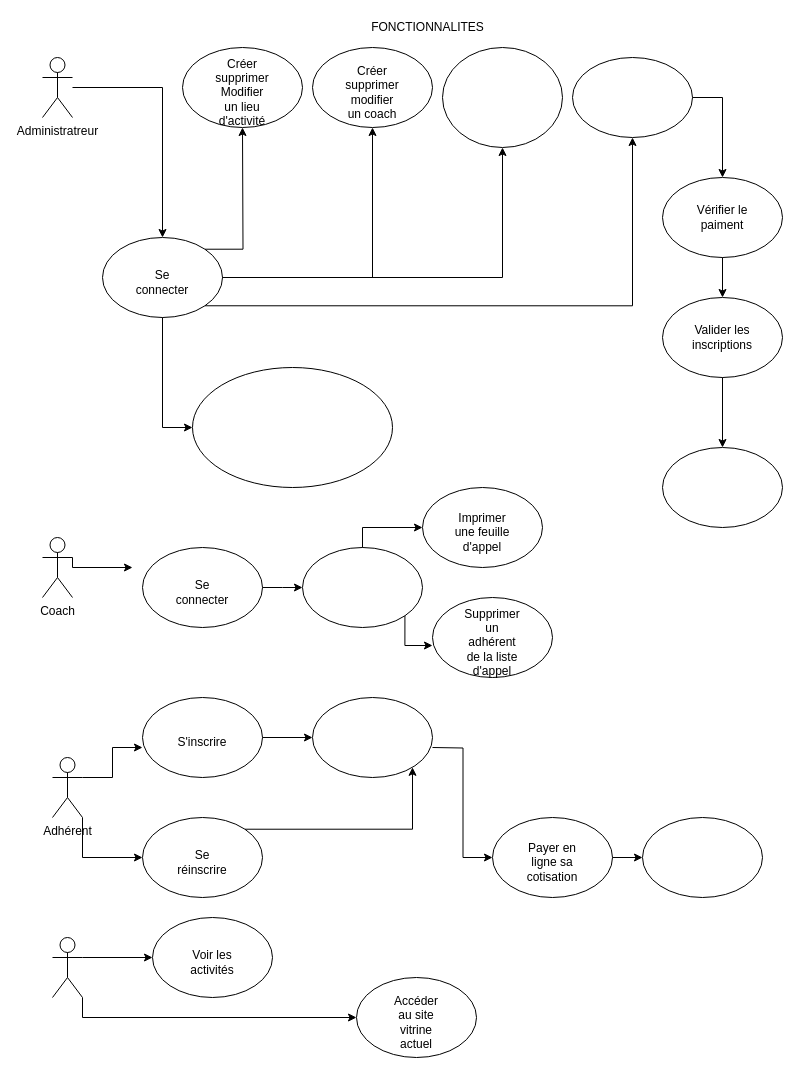
Image size: 800x1075. Some labels were removed from this diagram. The box of each missing label's shape, as (x1, y1, x2, y2) in pixels:
Créer, Modifier Supprimer un compte adhérent: (572, 56, 692, 138)
Créer, Modifier, Supprimer une activité sportive: (442, 46, 562, 148)
Envoyer la carte de membre: (662, 446, 782, 528)
Etablir une feuille de présence: (302, 546, 422, 628)
Imprimer sa carte de membre validée: (642, 816, 762, 898)
Télécharger une photo: (312, 696, 432, 778)
Vider la table de la base de données pour les certificats médicaux: (192, 366, 392, 488)
Visiteur: (52, 936, 82, 998)
